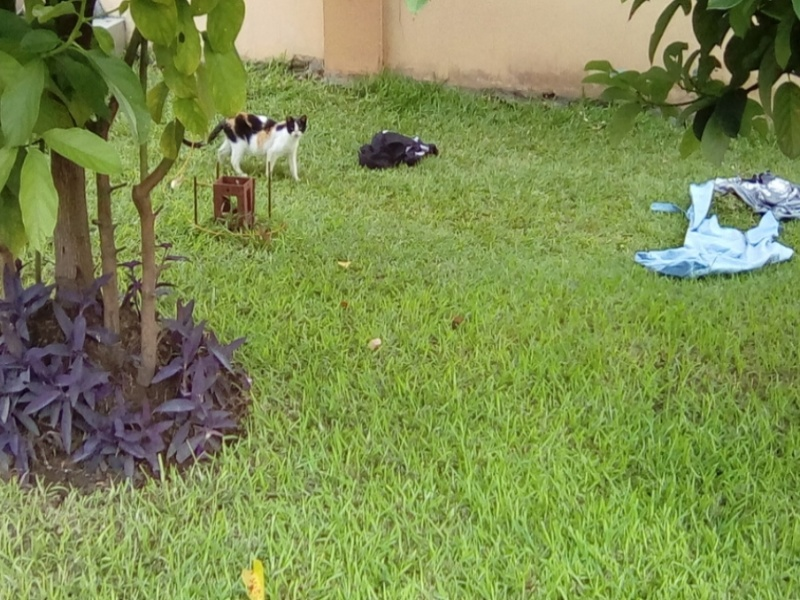cat: (170, 106, 307, 182)
